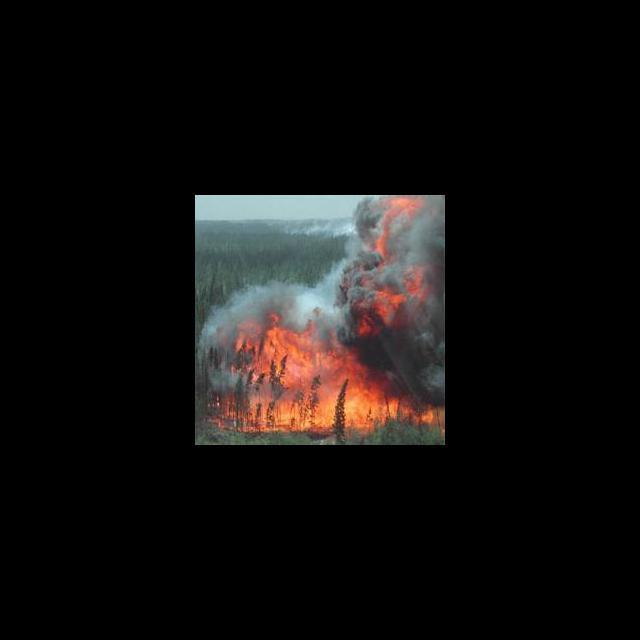Fire: (214, 312, 444, 438), (359, 196, 444, 311)
Smoke: (237, 272, 346, 310), (288, 217, 355, 240)
